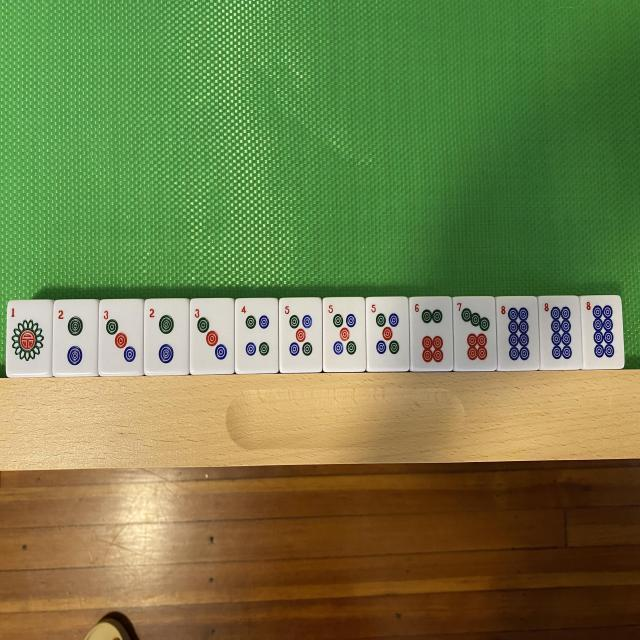sd1: (8, 304, 49, 371)
sd2: (54, 300, 95, 372), (146, 301, 187, 371)
sd3: (190, 299, 232, 372), (100, 301, 142, 372)
sd4: (237, 301, 277, 371)
sd5: (324, 301, 364, 368), (282, 302, 320, 370), (369, 301, 407, 368)
sd6: (411, 300, 451, 368)
sd7: (456, 298, 493, 366)
sd8: (498, 300, 533, 367), (542, 297, 576, 362), (586, 298, 618, 363)
